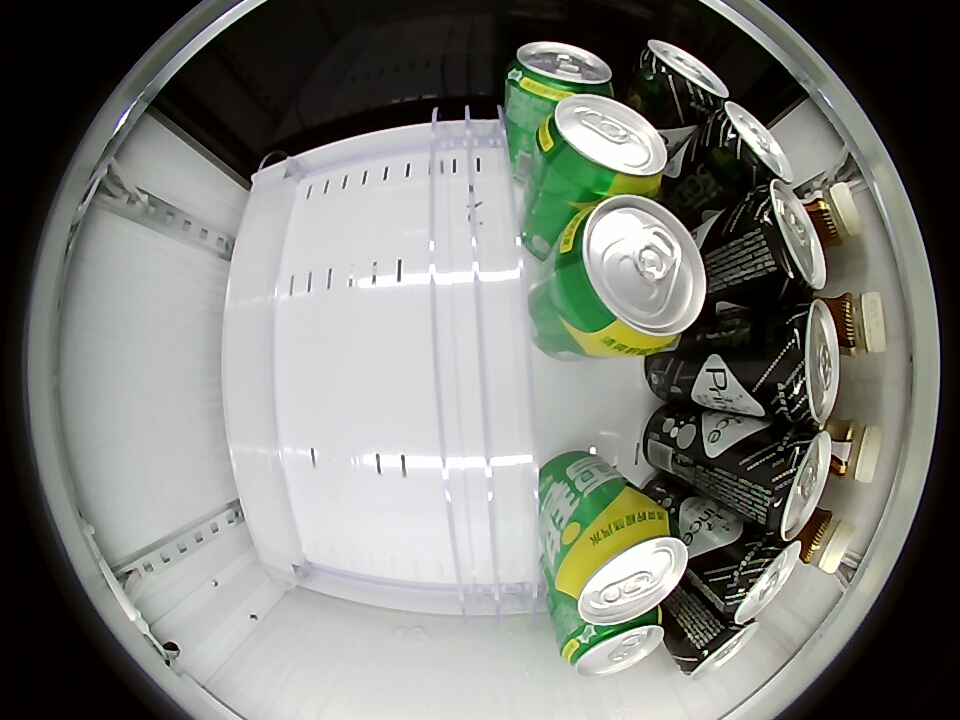kafei: (816, 290, 887, 360), (801, 180, 863, 248), (818, 417, 881, 483), (794, 506, 854, 575)
qingdaowangzi-1: (727, 179, 827, 307), (753, 305, 842, 427), (747, 427, 831, 540), (710, 530, 802, 625), (703, 100, 793, 190), (633, 39, 729, 122), (673, 612, 760, 678)
xuebi2: (549, 195, 707, 355), (553, 499, 689, 626), (533, 94, 669, 197), (505, 42, 615, 108), (559, 611, 665, 677)
